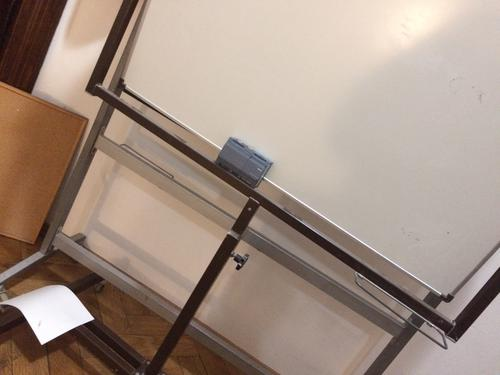iot2000: (215, 136, 274, 191)
